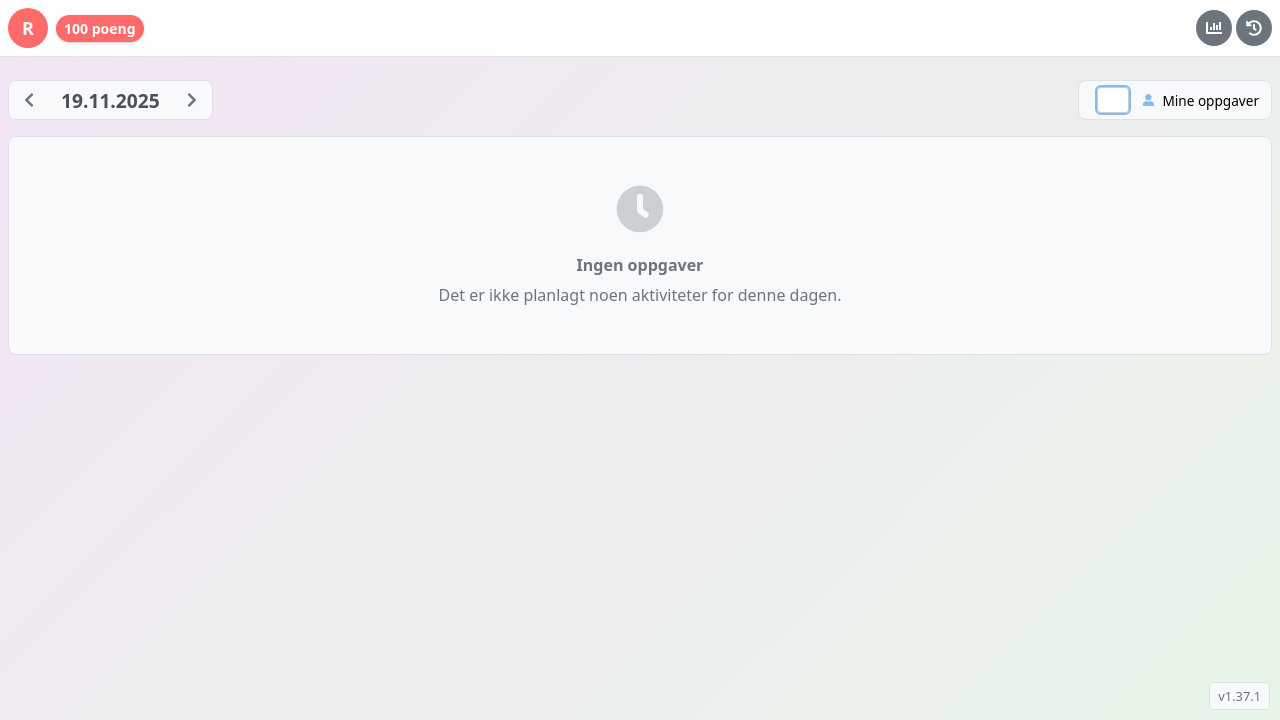
Test case: Non-Admin Profile Editing › should not show edit buttons for other members when user is not admin
// Click avatar to open ProfileSelector
Click the button titled "Åpne profil og innstillinger" at point(28, 28), box [8,8,48,48]
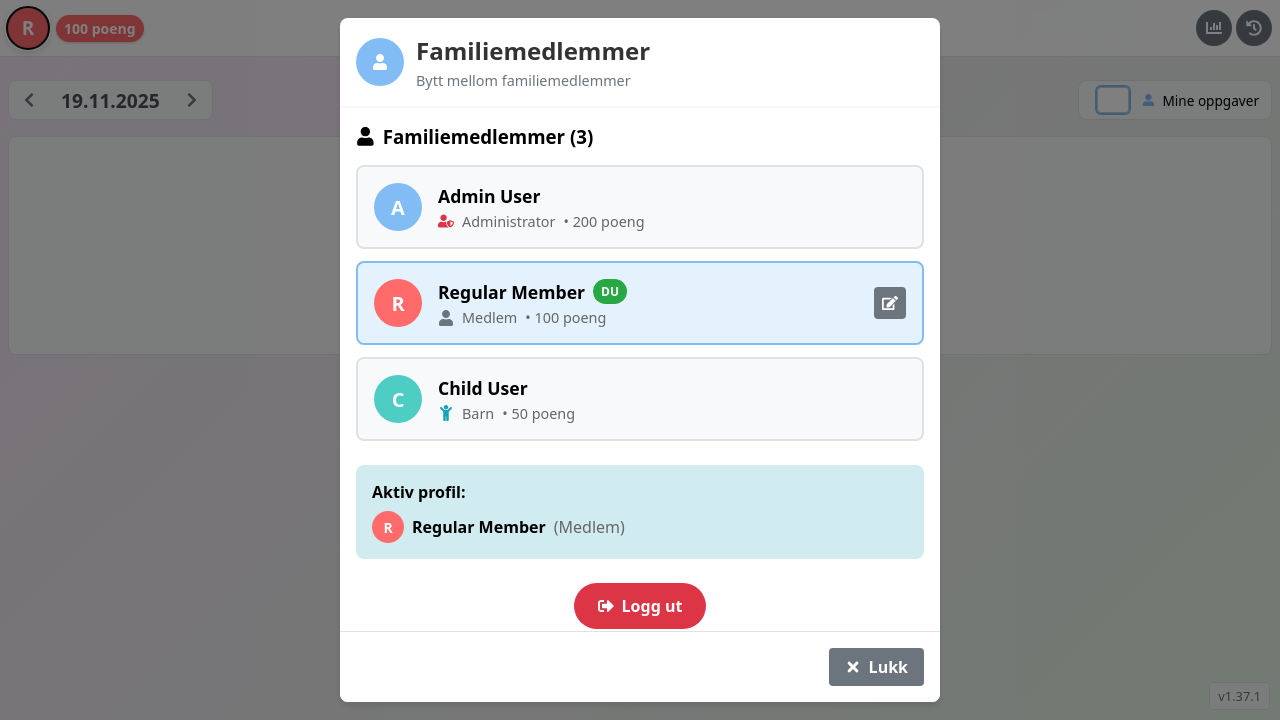
Now the heading "Familiemedlemmer (3)" is shown, box [356,124,593,149]
Now the text "Admin User" is shown, box [438,184,540,208]
Now the text "Regular Member" next to "DU" is shown, box [438,280,585,304]
